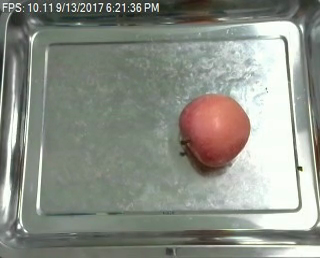Apple: (179, 90, 250, 170)
